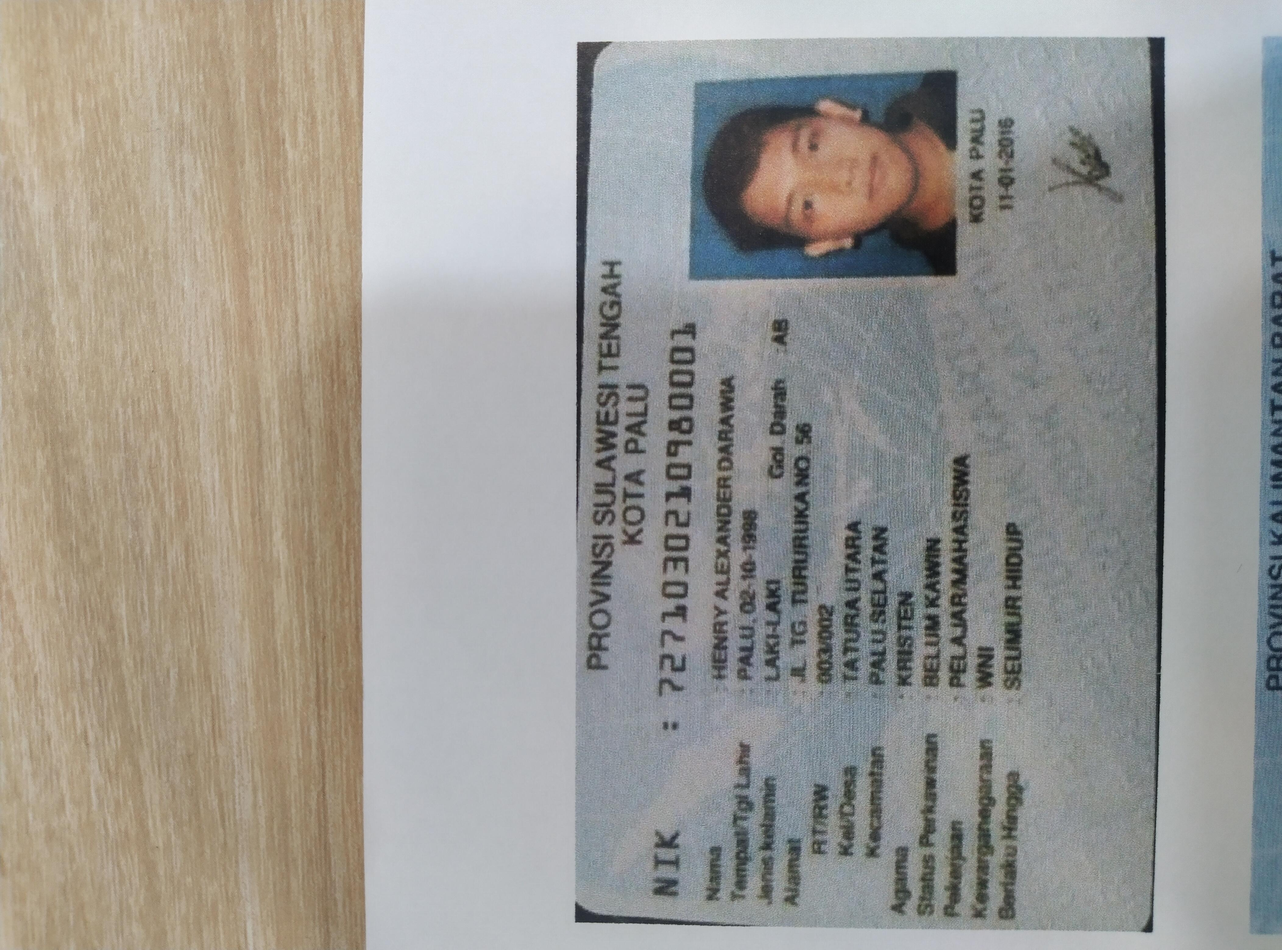ID-card: (23, 428, 1229, 855)
